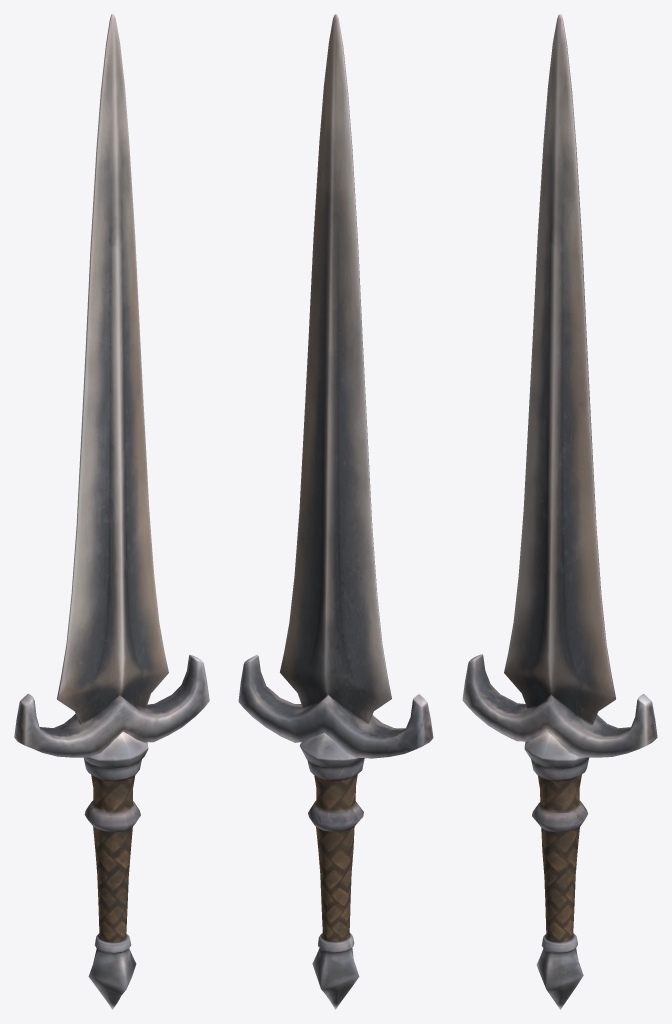
3 renders of one model, left to right at view 1: azimuth 30°, elevation 25°; view 2: azimuth 150°, elevation 25°; view 3: azimuth 330°, elevation 25°, orthographic.
Visible parts, largest first — view 1: SM_Sword_Steel_1H_01_LOD0; view 2: SM_Sword_Steel_1H_01_LOD0; view 3: SM_Sword_Steel_1H_01_LOD0.
Boxes of the visible parts, left/top/right/bottom form: SM_Sword_Steel_1H_01_LOD0: left=14, top=14, right=209, bottom=1009; SM_Sword_Steel_1H_01_LOD0: left=238, top=14, right=433, bottom=1009; SM_Sword_Steel_1H_01_LOD0: left=462, top=14, right=657, bottom=1009.
Size of the model in its own units: 0.2446 by 1.25 by 0.0813.
Materials: 1 (1 with a texture image).
